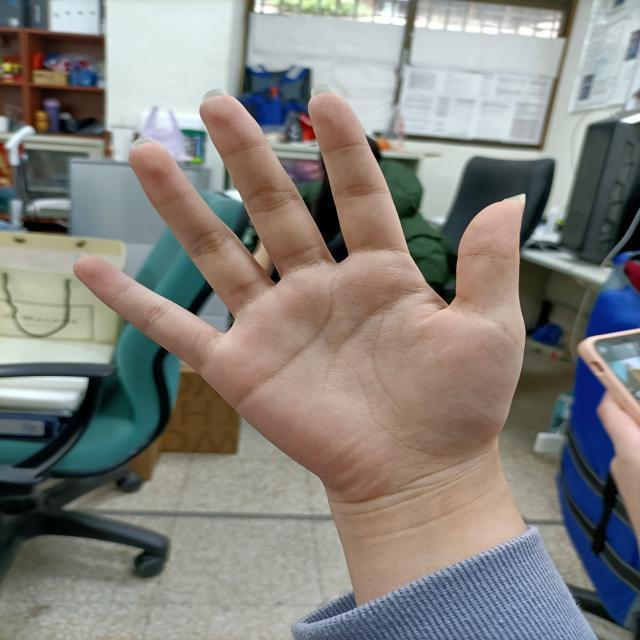hand: (66, 69, 552, 497)
